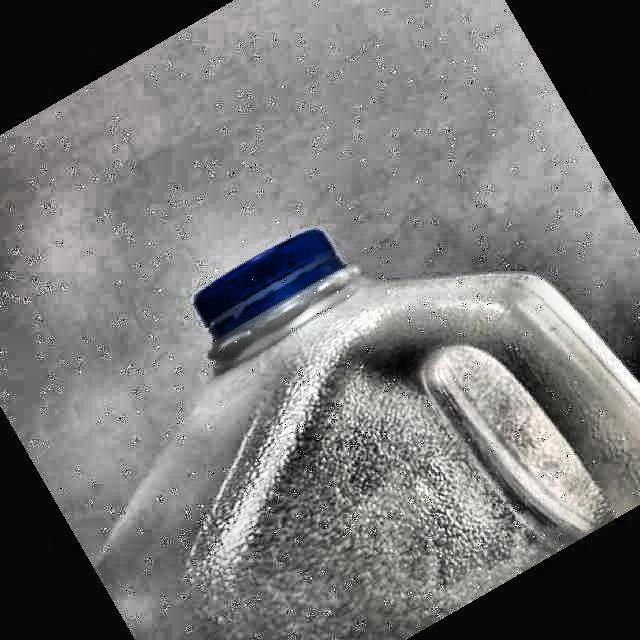plastic: (98, 230, 640, 640)
